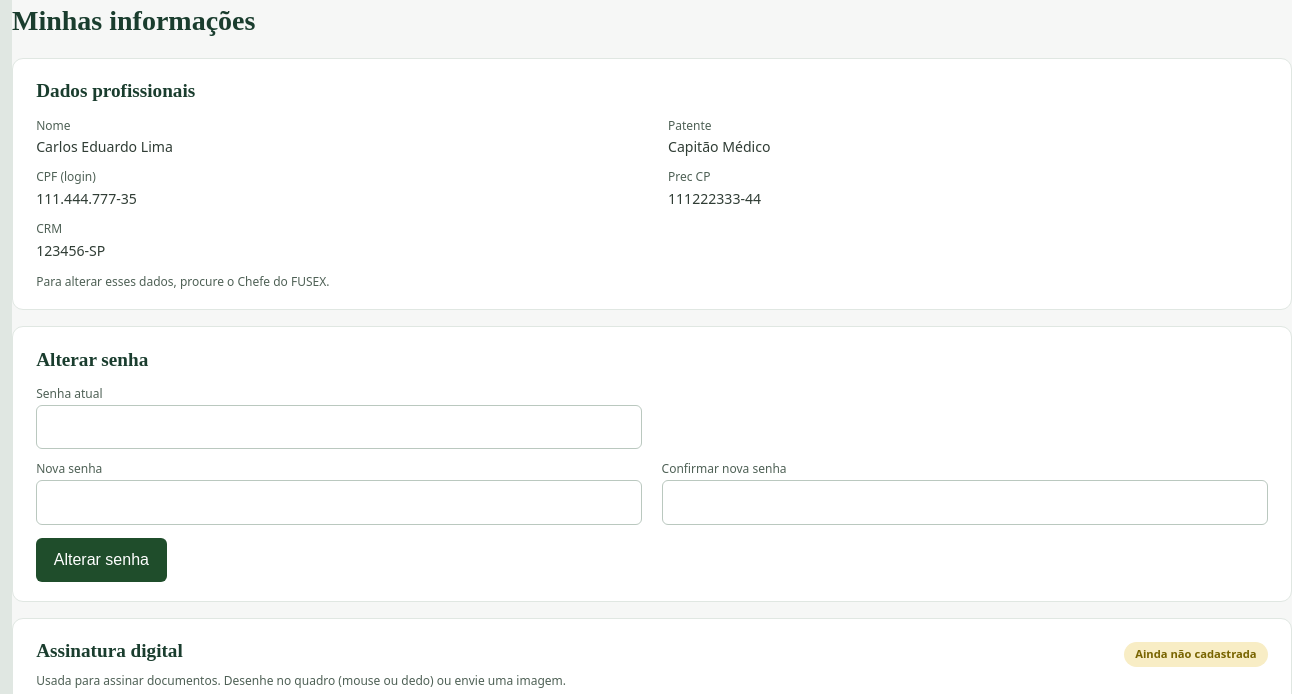
Test: Minhas informações do médico › nova senha igual à atual não envia e mostra erro
The image size is (1292, 694).
Type "senha123" into the password field labelled "Senha atual".
click(339, 427); type("senha123")  # box [36,405,642,449]
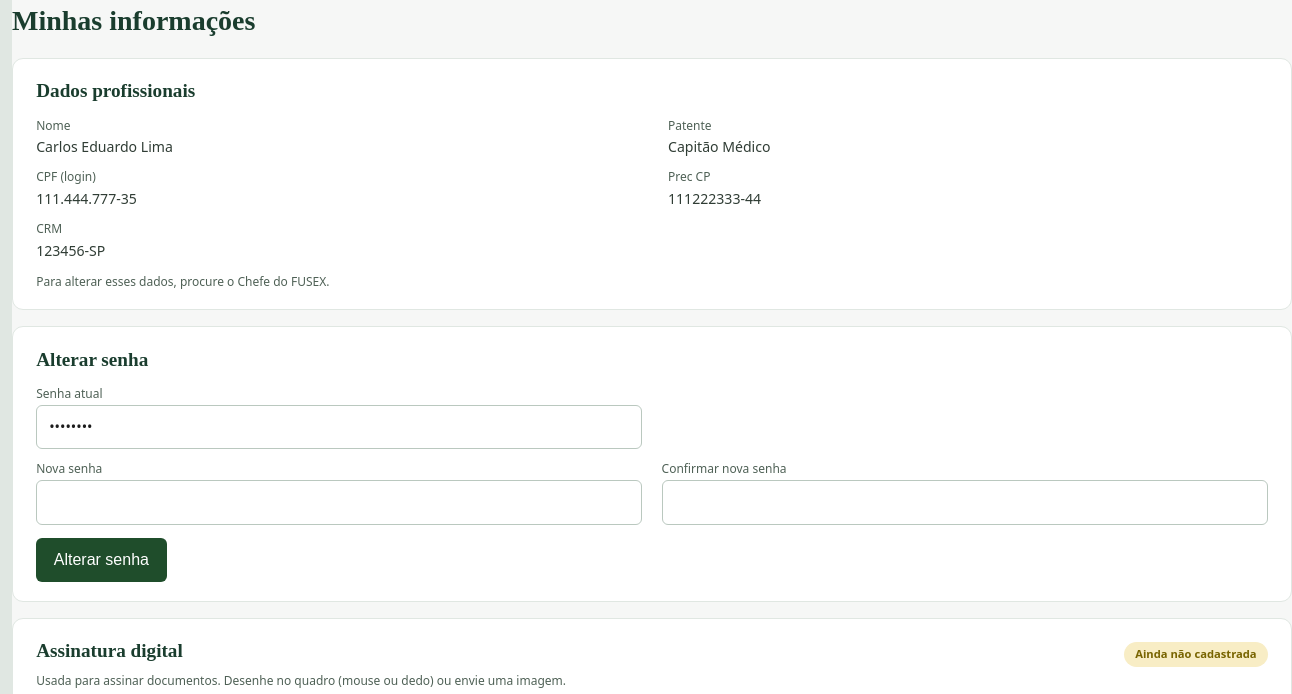
Type "senha123" into the password field labelled "Nova senha".
click(339, 503); type("senha123")  # box [36,480,642,525]
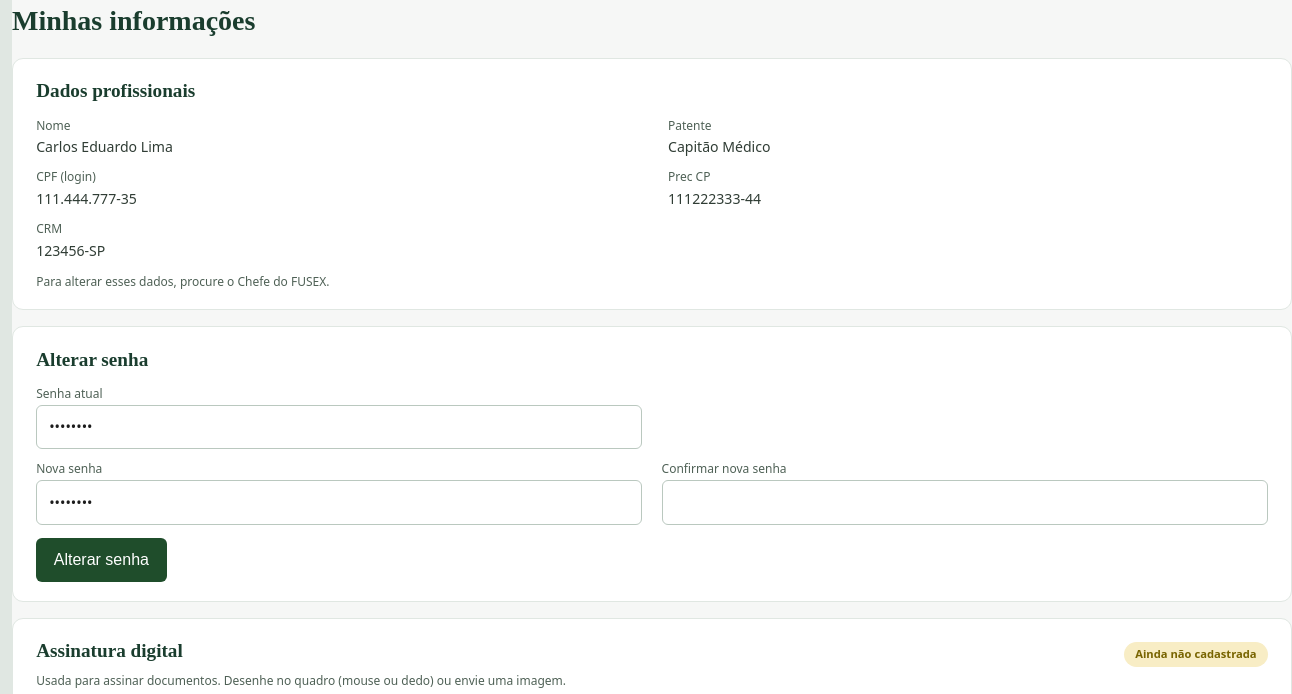
Type "senha123" into the password field labelled "Confirmar nova senha".
click(965, 503); type("senha123")  # box [662,480,1268,525]
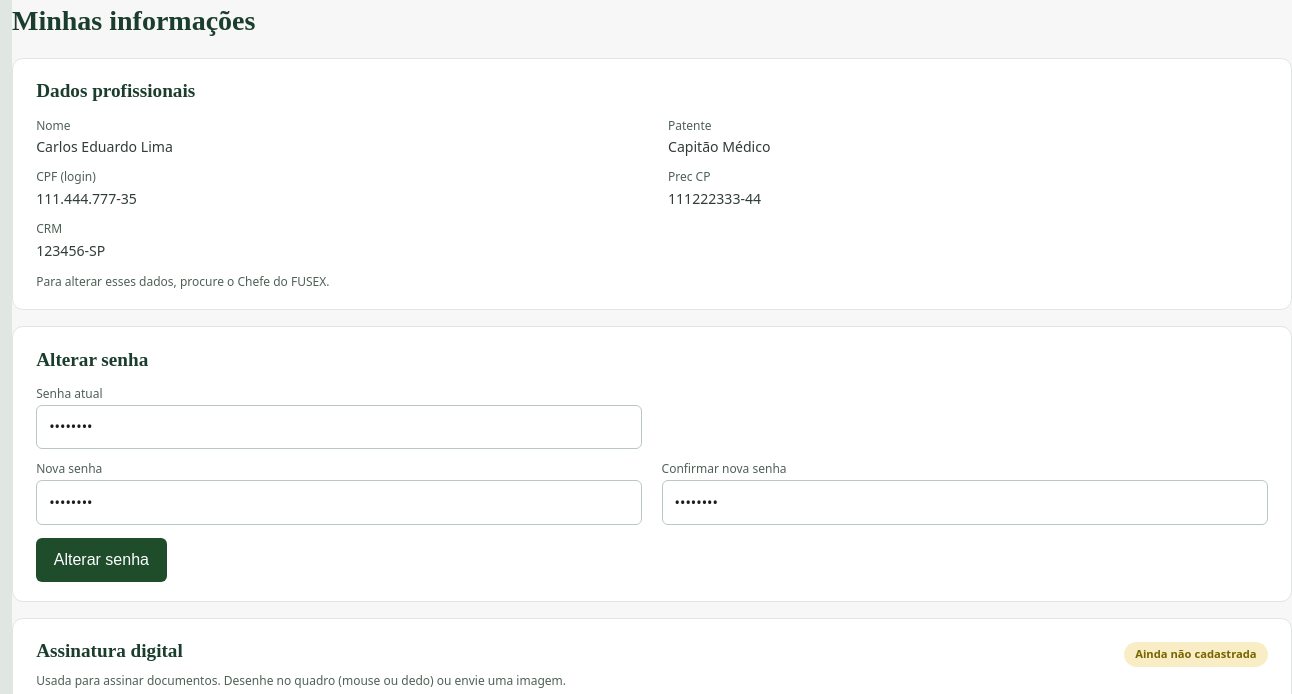
Click the button "Alterar senha".
click(101, 560)  # box [36,538,167,582]
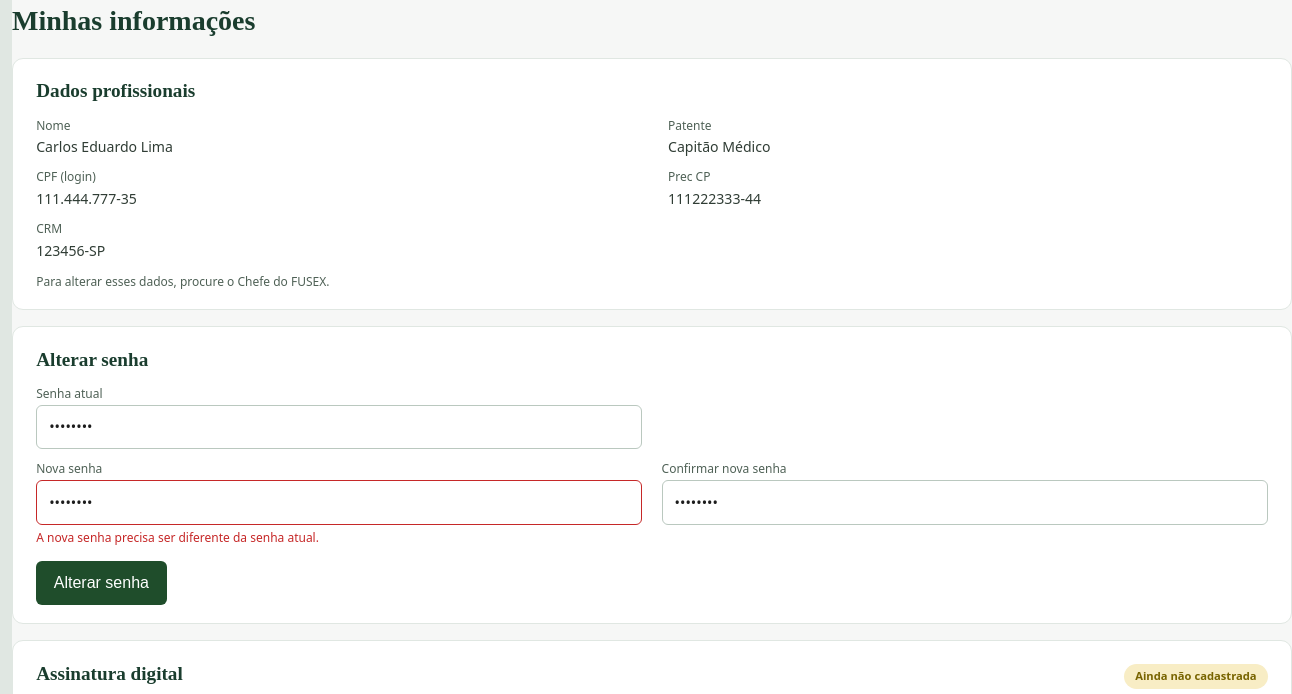
Expected: the text "A nova senha precisa ser diferente da senha atual." is shown, [36,529,319,546]
